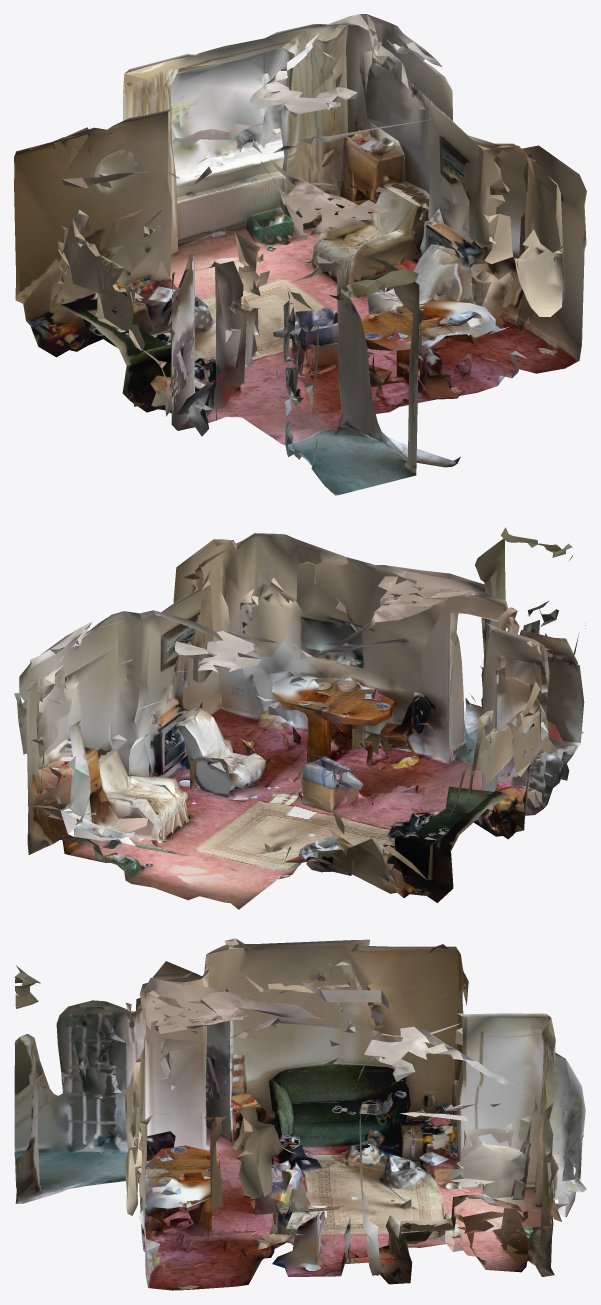
Rendered from Birch.glb.
3 renders of one model, top to bottom at view 1: azimuth 30°, elevation 25°; view 2: azimuth 150°, elevation 25°; view 3: azimuth 270°, elevation 25°, orthographic. The views are drawn at different scales.
Visible parts, largest first — view 1: BirchNew; view 2: BirchNew; view 3: BirchNew.
Part boxes in pixels (<box>): BirchNew: <box>14,14,586,495</box>; BirchNew: <box>14,527,585,909</box>; BirchNew: <box>14,938,586,1290</box>.
Size of the model in its own units: 5.26 by 2.64 by 6.89.
Materials: 1 (1 with a texture image).
